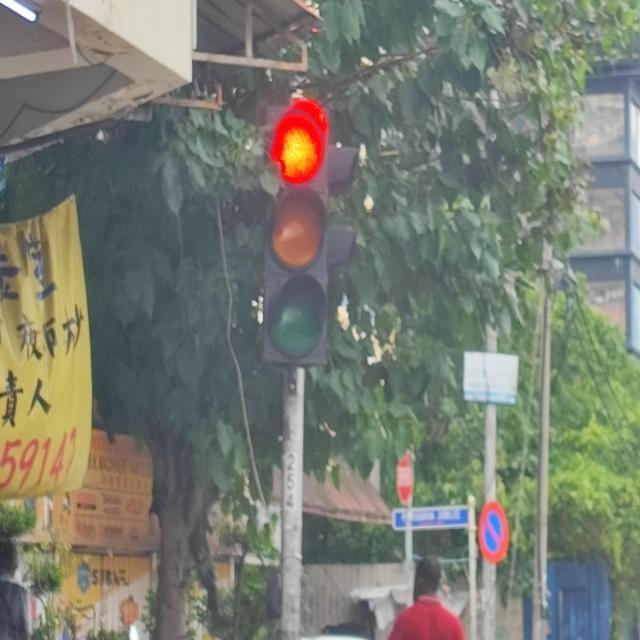Red: (262, 95, 330, 364)
